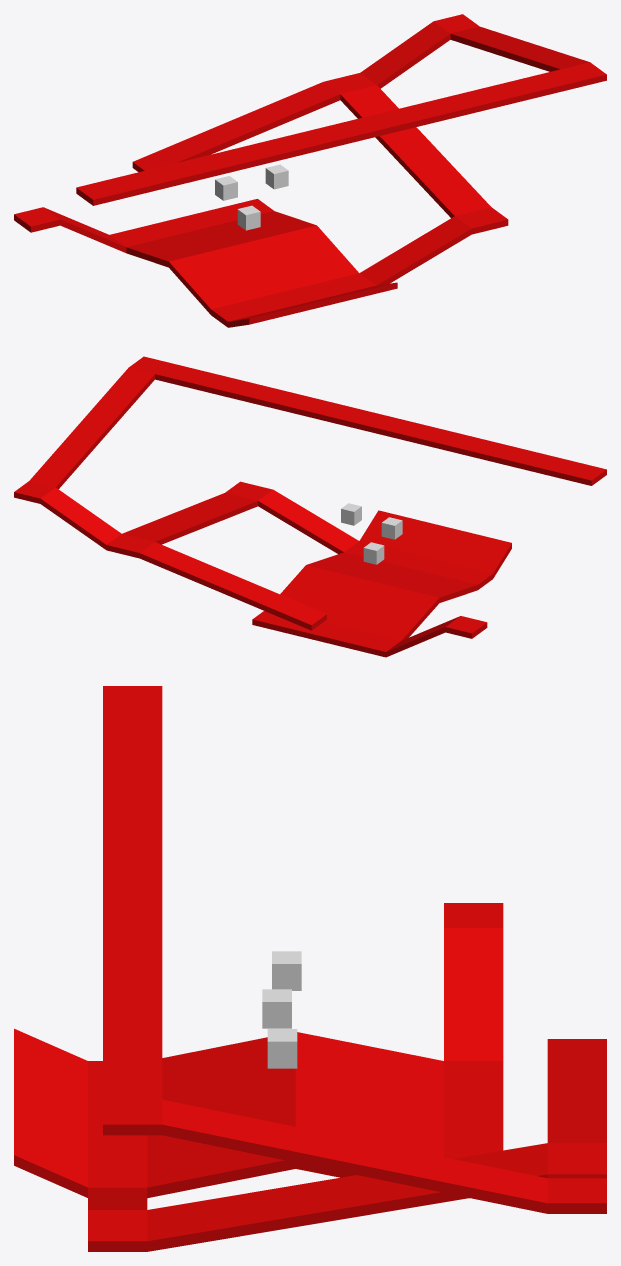
The picture shows the model from 3 angles, top to bottom: view 1: azimuth 30°, elevation 25°; view 2: azimuth 150°, elevation 25°; view 3: azimuth 270°, elevation 25°; orthographic projection. The views are drawn at different scales.
Visible parts, largest first — view 1: Floor, Cube003, Cube001, Cube002; view 2: Floor, Cube001, Cube002; view 3: Floor, Cube001, Cube003, Cube002.
Part boxes in pixels (x1,y1,x2,y2): Floor: (14,14,606,327); Cube003: (265,164,288,189); Cube001: (237,205,260,230); Cube002: (215,176,237,200); Floor: (14,356,606,657); Cube001: (363,542,384,564); Cube002: (381,517,402,539); Floor: (14,686,606,1251); Cube001: (267,1029,297,1068); Cube003: (262,989,291,1028); Cube002: (272,951,301,990).
Bounding box in the file's own units: 70 × 20.4 × 40.
